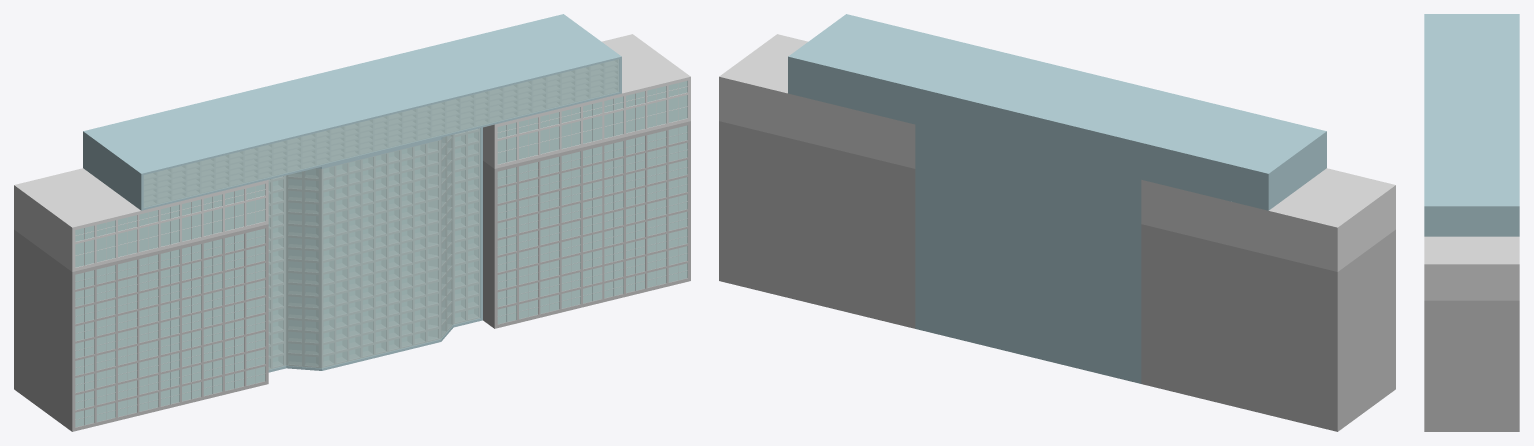
3 renders of one model, left to right at view 1: azimuth 30°, elevation 25°; view 2: azimuth 150°, elevation 25°; view 3: azimuth 270°, elevation 25°, orthographic. The views are drawn at different scales.
Visible parts, largest first — view 1: 043_arch_Takashimaya; view 2: 043_arch_Takashimaya; view 3: 043_arch_Takashimaya.
Part boxes in pixels (x1,y1,x2,y2): 043_arch_Takashimaya: (14,14,690,431); 043_arch_Takashimaya: (719,14,1395,431); 043_arch_Takashimaya: (1424,14,1519,431).
Size of the model in its own units: 0.6135 by 0.2286 by 0.1.
